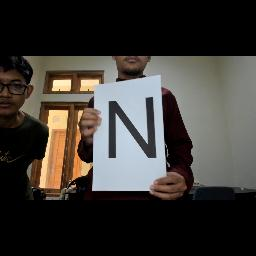n: (102, 96, 162, 166)
